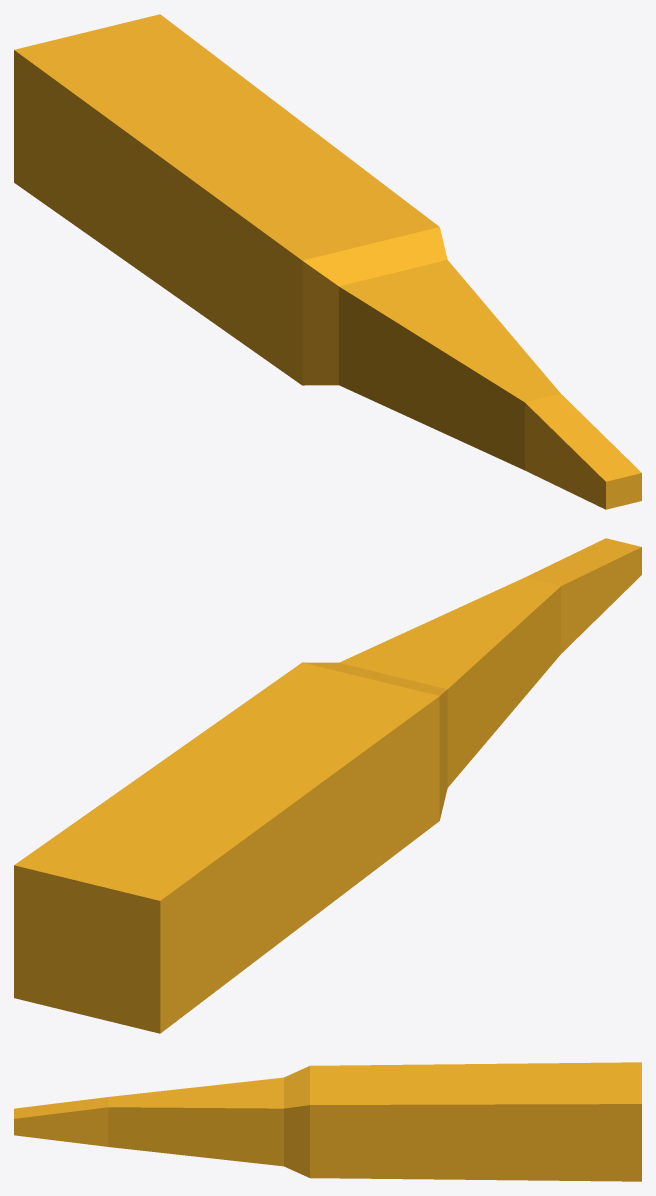
Rendered from CGBullet.glb.
The picture shows the model from 3 angles, top to bottom: view 1: azimuth 30°, elevation 25°; view 2: azimuth 150°, elevation 25°; view 3: azimuth 270°, elevation 25°; orthographic projection. The views are drawn at different scales.
Parts seen in each view (by area): view 1: Cube; view 2: Cube; view 3: Cube.
Part boxes in pixels (x1,y1,x2,y2): Cube: [14, 14, 641, 509]; Cube: [14, 538, 641, 1033]; Cube: [14, 1062, 641, 1181].
Size of the model in its own units: 1 by 0.8678 by 6.36.
1 material, 1 textured.
